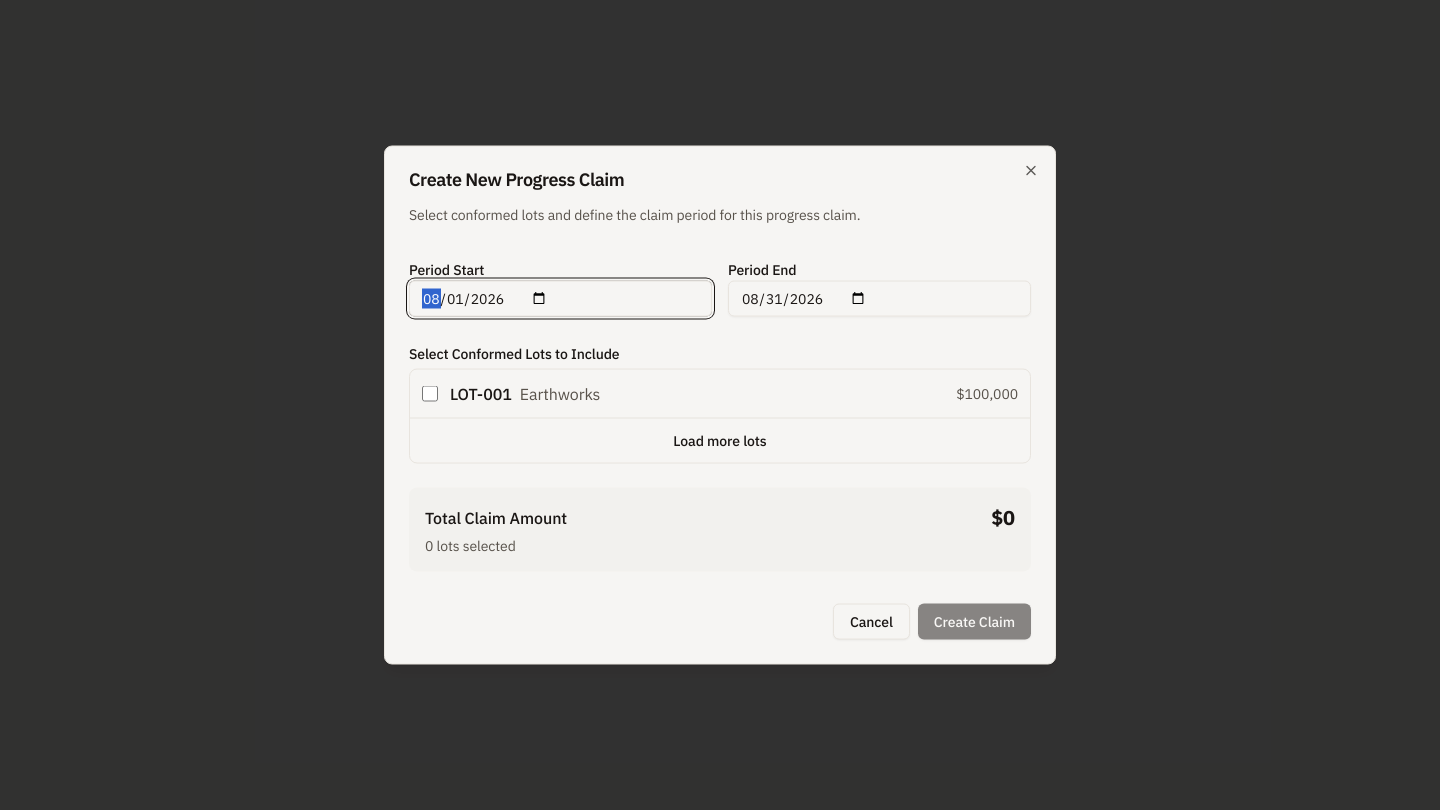
Test: CreateClaimModal create flow › loads additional claim-readiness pages via the cursor API when Load more is clicked
Expected: the text "LOT-001" is shown, [450, 384, 512, 404]
Expected: the text "LOT-002" is not shown
Click the button "Load more lots" at (720, 440), box [410, 418, 1030, 462]
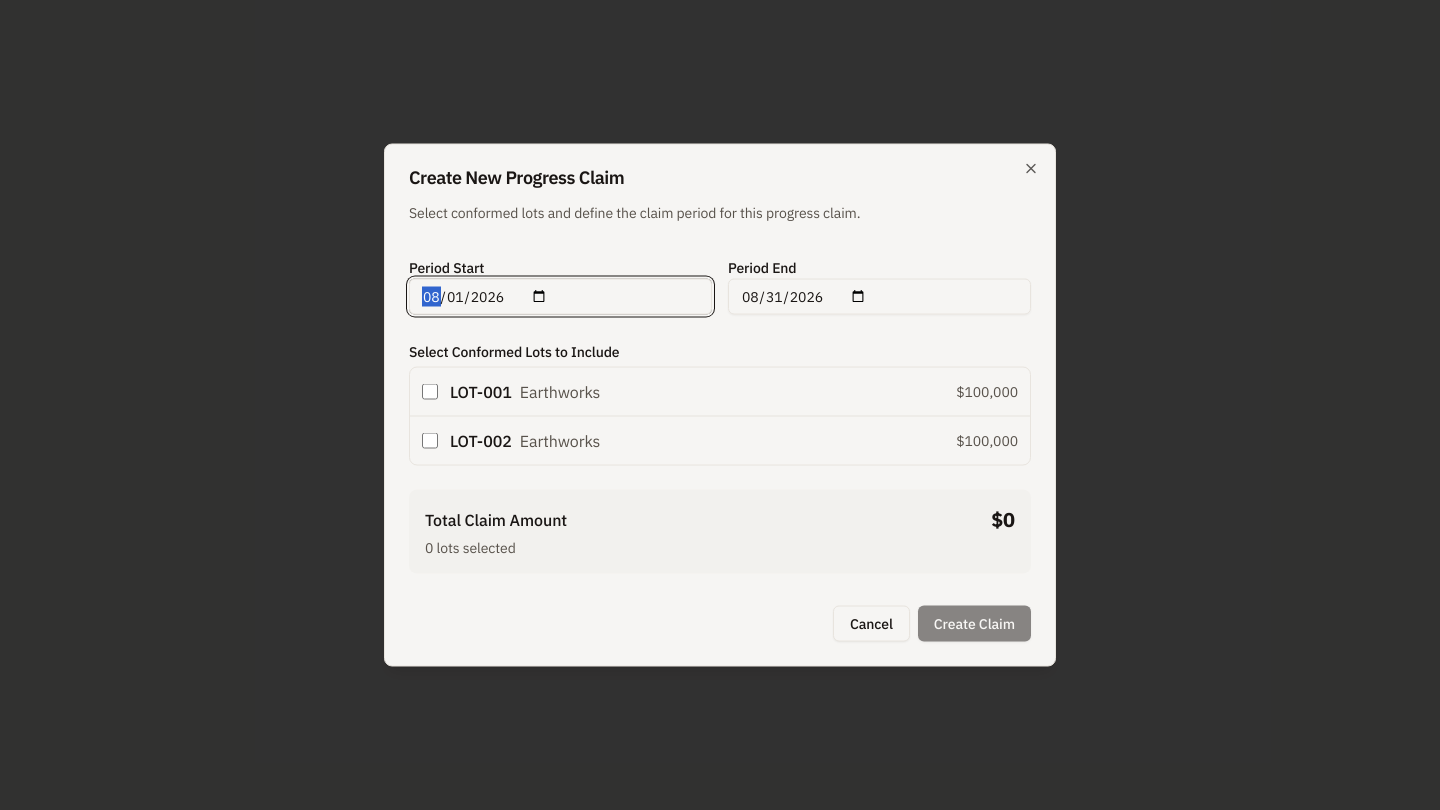
Expected: the text "LOT-001" is shown, [450, 382, 512, 402]
Expected: the text "LOT-002" is shown, [450, 430, 512, 450]
